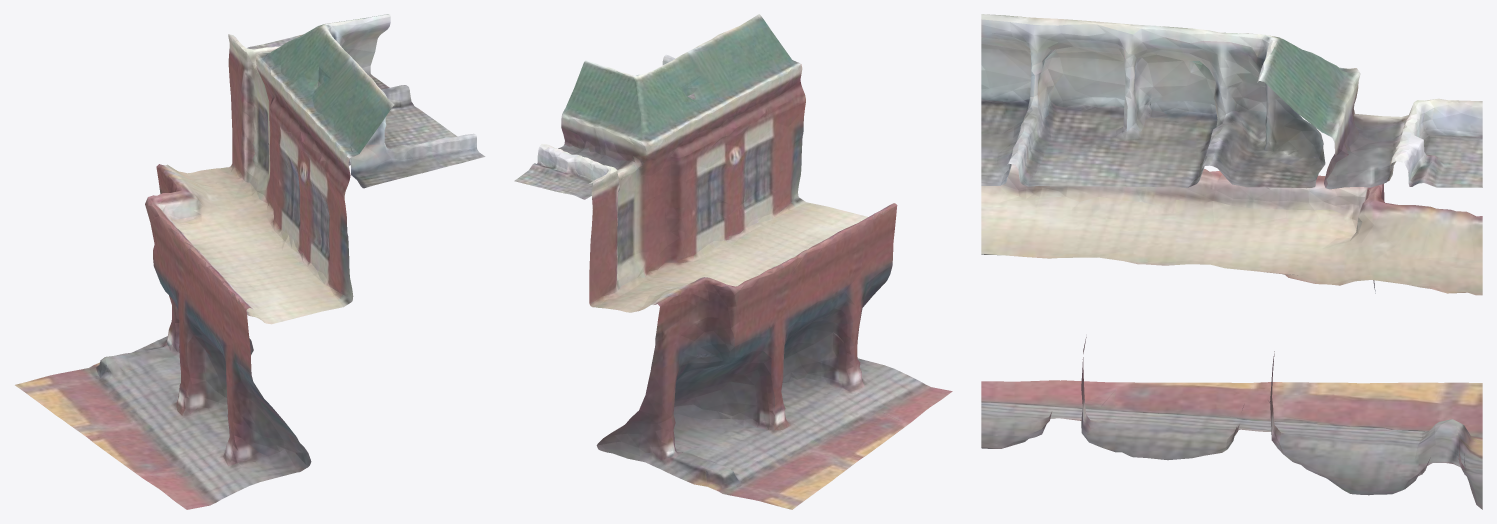
File: Tile__003__003_L22_00003200.glb
The picture shows the model from 3 angles, left to right: view 1: azimuth 30°, elevation 25°; view 2: azimuth 150°, elevation 25°; view 3: azimuth 270°, elevation 25°; orthographic projection. The views are drawn at different scales.
Parts seen in each view (by area): view 1: root; view 2: root; view 3: root.
Boxes of the visible parts, box(x1,y1,x2,y2) form: root: box(15, 14, 485, 509); root: box(514, 14, 952, 509); root: box(981, 14, 1482, 509).
Size of the model in its own units: 12.56 by 14.35 by 12.56.
Materials: 1 (1 with a texture image).
